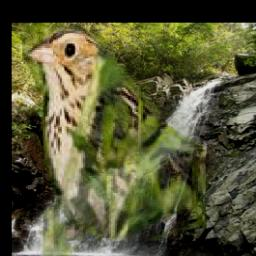Sparrow: (22, 24, 206, 256)
